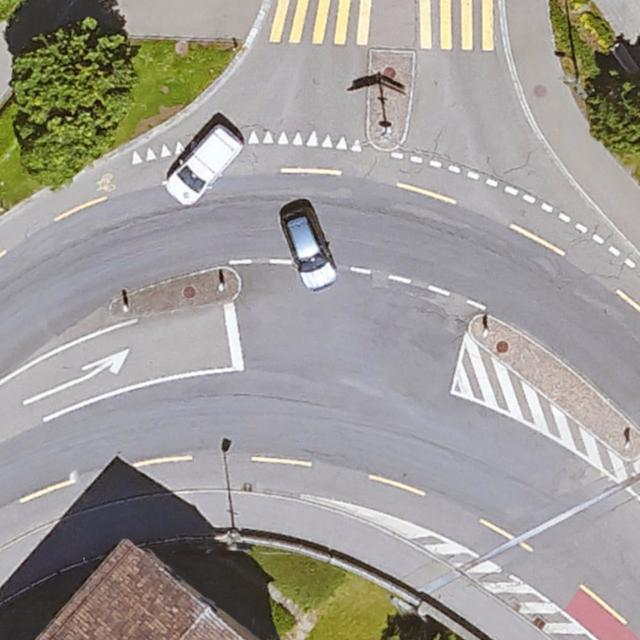tree: (16, 24, 133, 167), (590, 77, 640, 152)
